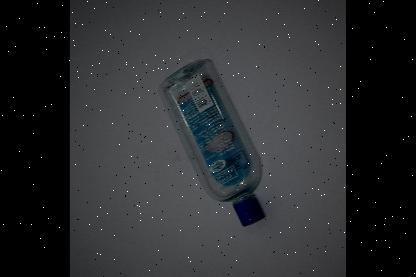Plastic Bottle: (159, 58, 262, 225)
